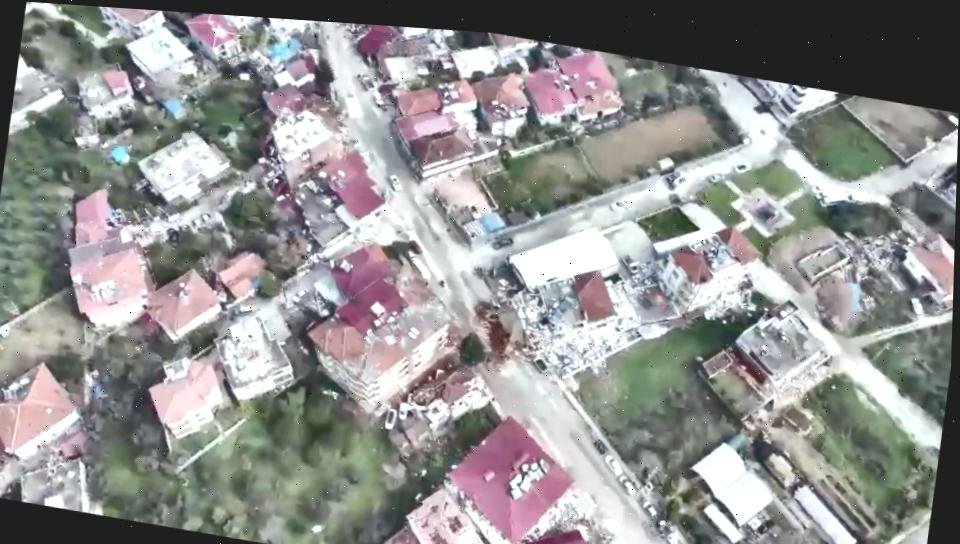kapali: (444, 282, 557, 414), (314, 21, 376, 79)
